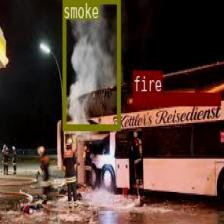fire: (132, 92, 220, 105)
smoke: (62, 0, 119, 130)
